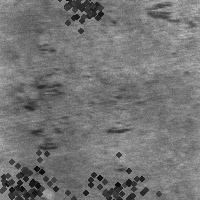rolled-in_scale: (60, 136, 174, 200), (20, 39, 75, 154), (0, 145, 64, 200), (46, 0, 114, 36), (143, 1, 187, 23)
